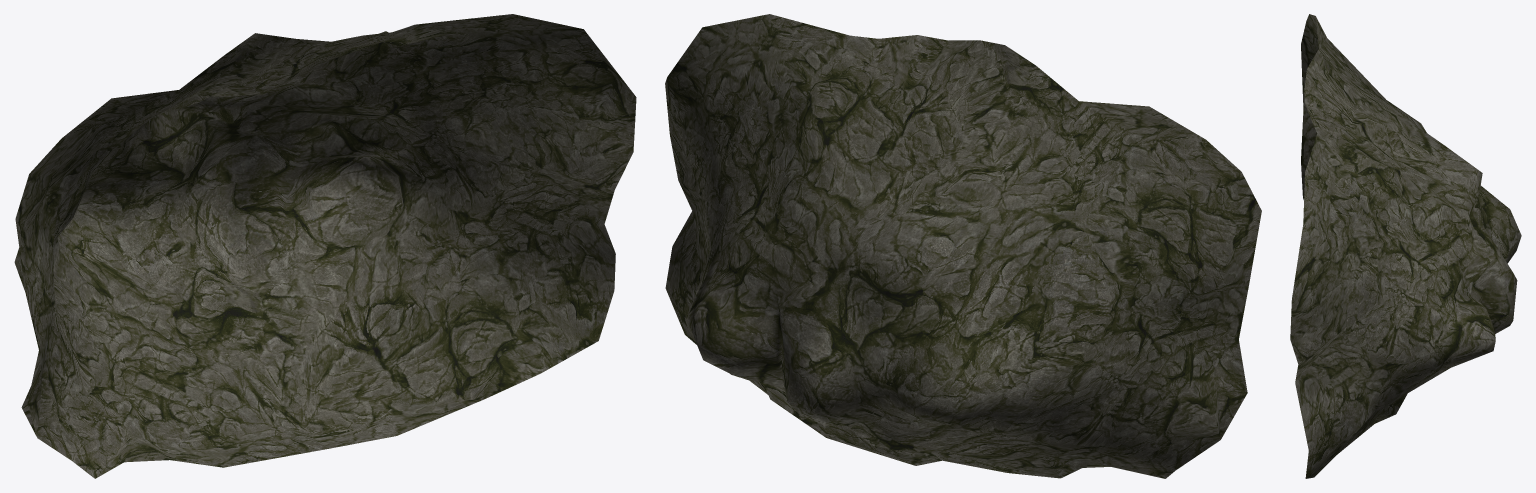
Rendered from TI_Cliff_01_k_LOD_01.fbx.
3 views of the same model, side by side, from view 1: azimuth 30°, elevation 25°; view 2: azimuth 150°, elevation 25°; view 3: azimuth 270°, elevation 25° (orthographic). The views are drawn at different scales.
Parts seen in each view (by area): view 1: TI_Cliff_01_k_LOD_01; view 2: TI_Cliff_01_k_LOD_01; view 3: TI_Cliff_01_k_LOD_01.
Part boxes in pixels (bbox=[...]): TI_Cliff_01_k_LOD_01: bbox=[14, 14, 636, 478]; TI_Cliff_01_k_LOD_01: bbox=[665, 14, 1261, 478]; TI_Cliff_01_k_LOD_01: bbox=[1290, 14, 1521, 478].
Bounding box in the file's own units: 8.18 × 5.51 × 3.39.
